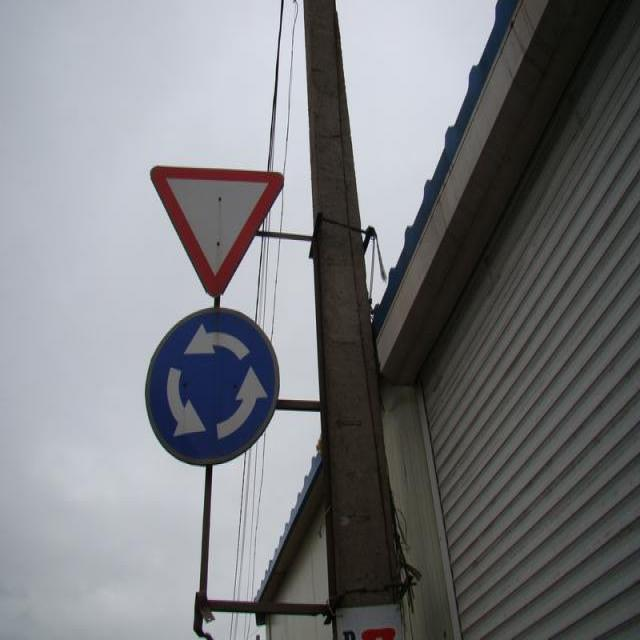roundabout: (148, 302, 278, 468)
